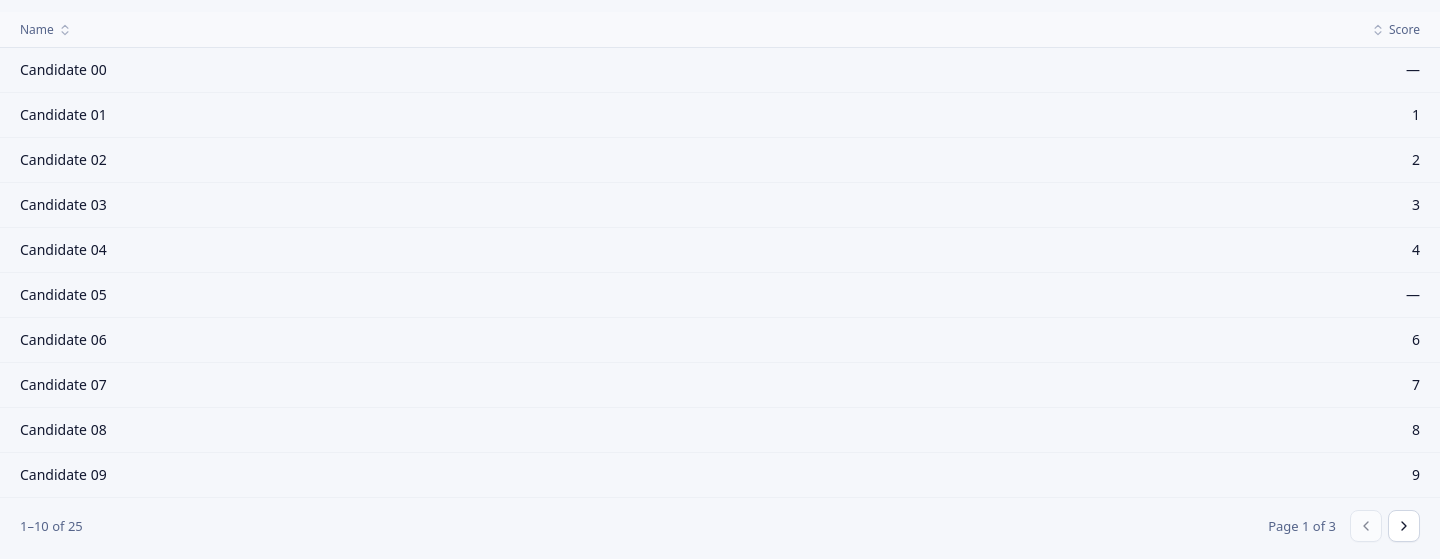
DataTable › paginates client-side
This screenshot has width=1440, height=559.
Check: the text "1–10 of 25" is shown, box [20, 516, 83, 536]
Click the button named "Next page" at (1404, 526), box [1388, 510, 1420, 542]
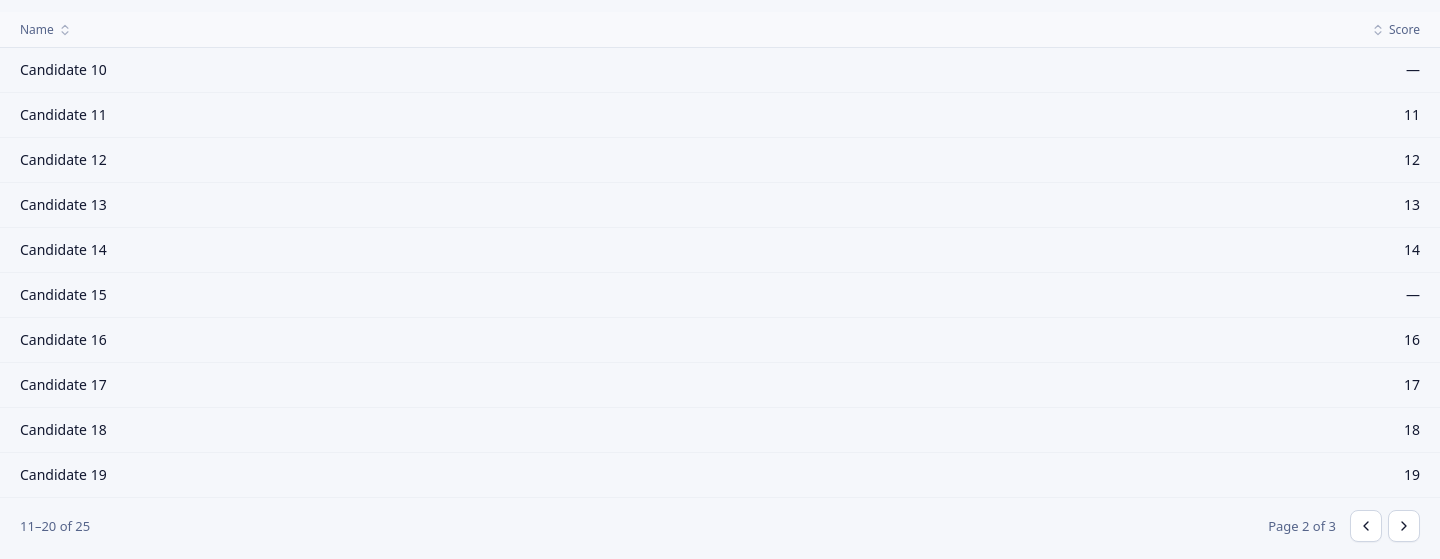
Check: the text "11–20 of 25" is shown, box [20, 516, 90, 536]
Click the button named "Next page" at (1404, 526), box [1388, 510, 1420, 542]
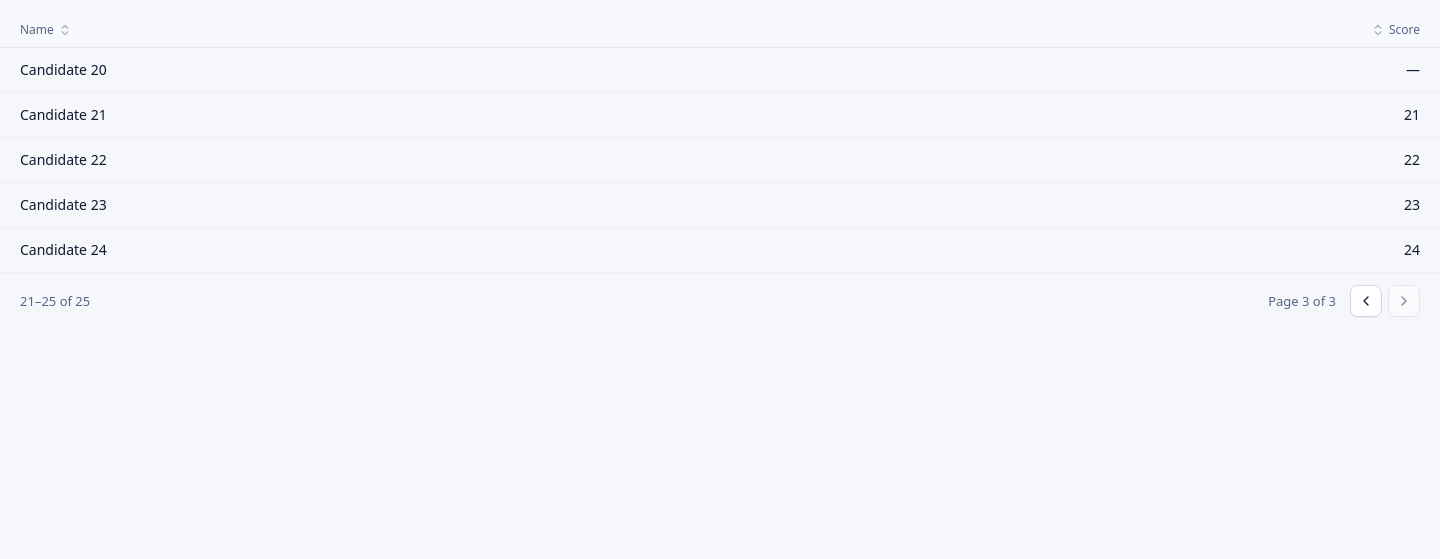
Check: the button named "Next page" is disabled, box [1388, 285, 1420, 317]
